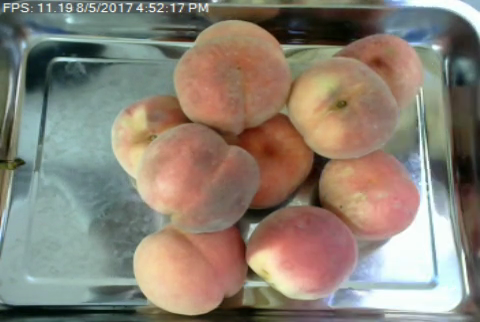Peach: (173, 18, 290, 134), (136, 123, 259, 233), (284, 56, 401, 160), (243, 204, 357, 299), (132, 222, 245, 314), (317, 148, 421, 241)
